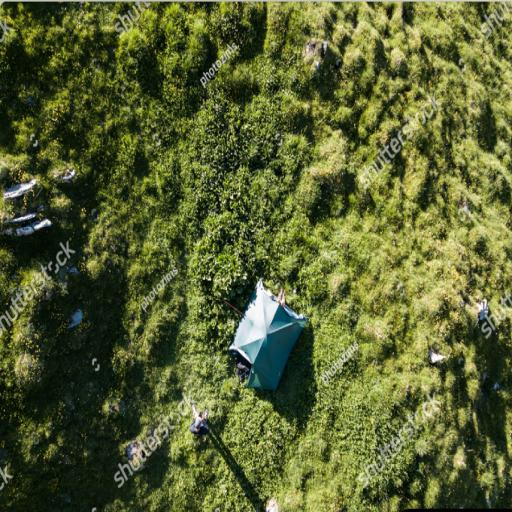tent: (228, 278, 308, 395)
